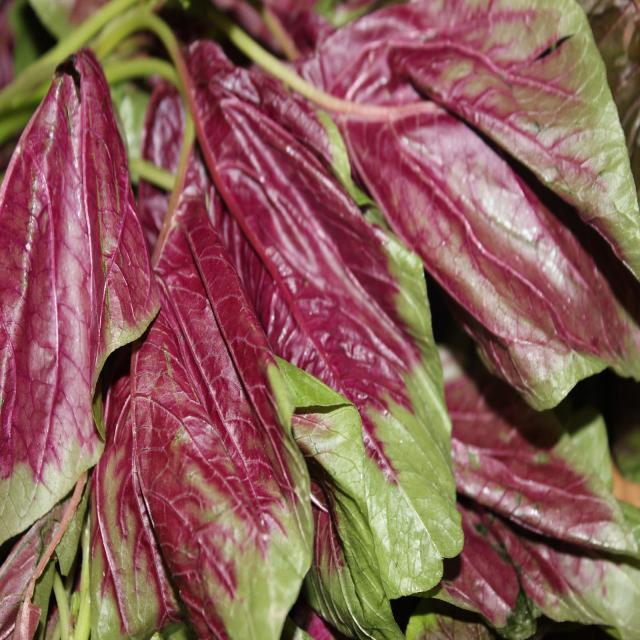Medicinal-Arive Dantu: (148, 17, 591, 640), (0, 36, 123, 520)
